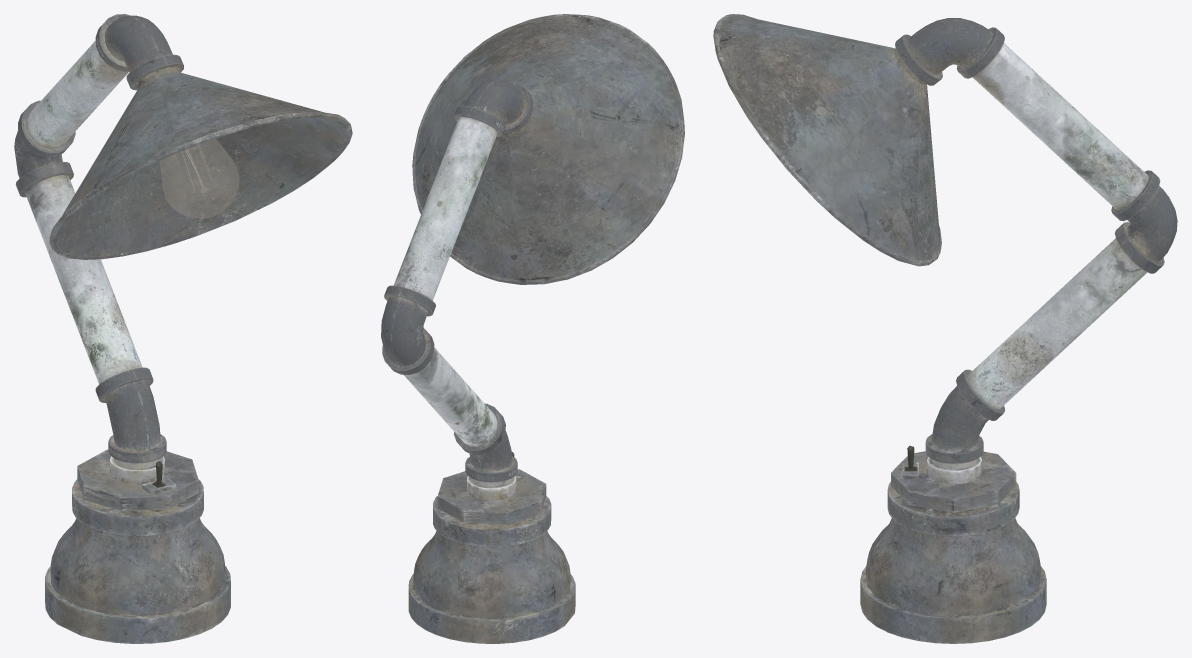
Rendered from industrial_pipe_lamp.glb.
3 views of the same model, side by side, from view 1: azimuth 30°, elevation 25°; view 2: azimuth 150°, elevation 25°; view 3: azimuth 270°, elevation 25° (orthographic). The views are drawn at different scales.
Parts seen in each view (by area): view 1: industrial_pipe_lamp, industrial_pipe_lamp_bulb; view 2: industrial_pipe_lamp; view 3: industrial_pipe_lamp.
Boxes of the visible parts, <box> form: industrial_pipe_lamp: <box>14,14,352,643</box>; industrial_pipe_lamp_bulb: <box>160,139,239,218</box>; industrial_pipe_lamp: <box>381,14,684,643</box>; industrial_pipe_lamp: <box>713,14,1177,643</box>.
Bounding box in the file's own units: 0.1826 × 0.3641 × 0.2621.
Materials: 2 (2 with a texture image).
